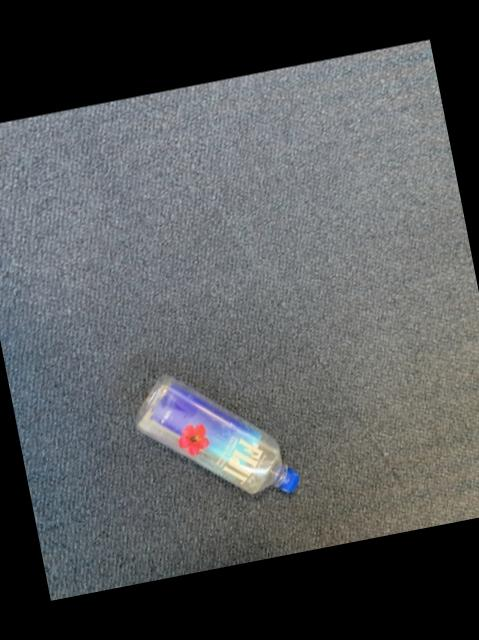plastic: (134, 377, 296, 495)
